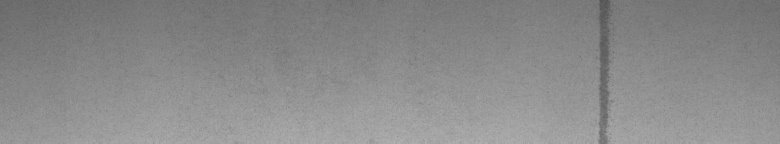hd: (595, 4, 614, 136)
